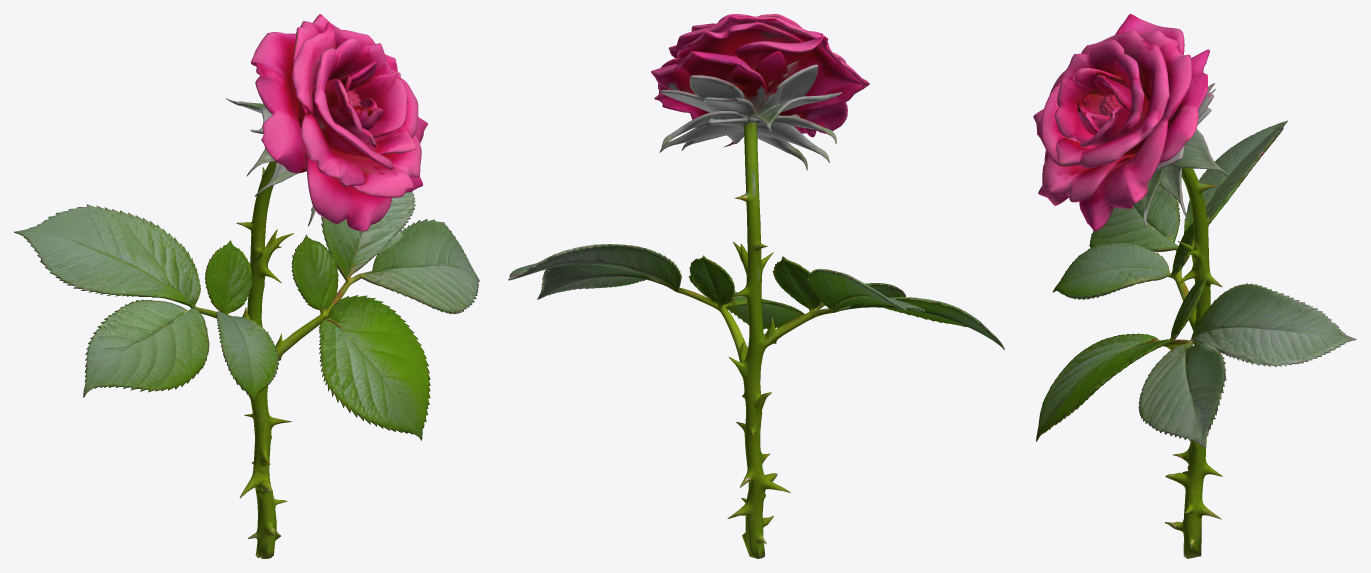
The picture shows the model from 3 angles, left to right: view 1: azimuth 30°, elevation 25°; view 2: azimuth 150°, elevation 25°; view 3: azimuth 270°, elevation 25°; orthographic projection. The views are drawn at different scales.
Visible parts, largest first — view 1: node_0; view 2: node_0; view 3: node_0.
Boxes of the visible parts, x1,y1,x2,y2 form: node_0: (14, 14, 479, 558); node_0: (508, 14, 1004, 558); node_0: (1033, 14, 1356, 558).
Bounding box in the file's own units: 1.01 × 1.18 × 0.6467.
1 material, 1 textured.
